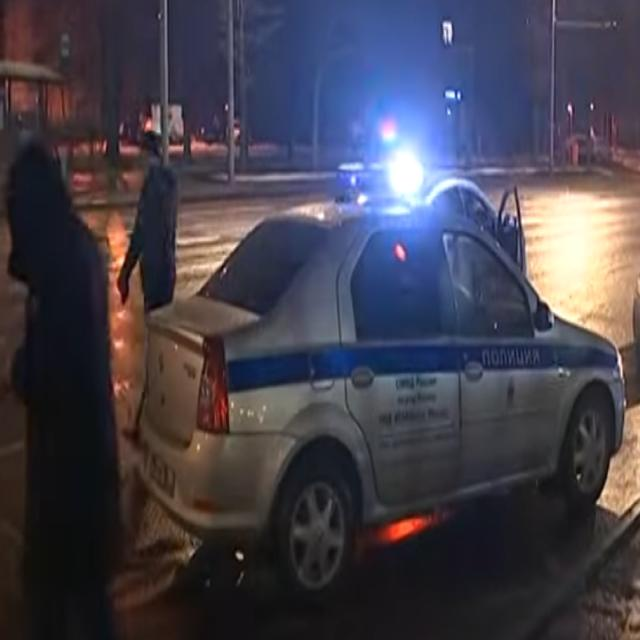police car: (130, 160, 630, 605)
